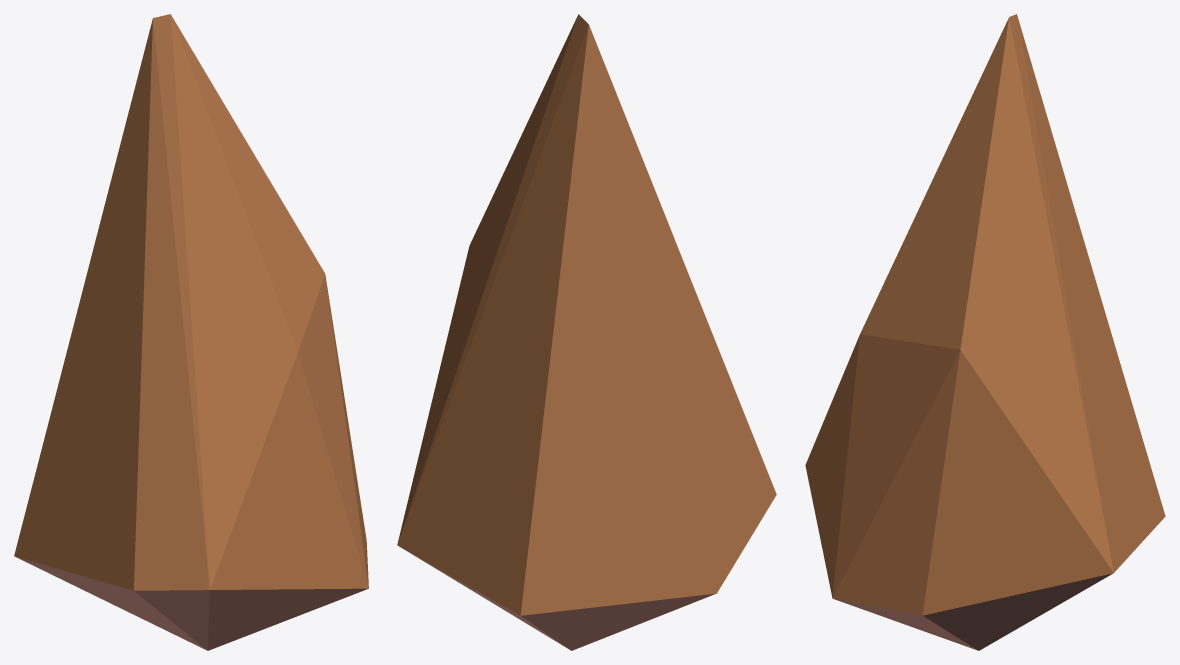
The model's file is PineTree_Autumn_2.lod4.glb.
3 views of the same model, side by side, from view 1: azimuth 30°, elevation 25°; view 2: azimuth 150°, elevation 25°; view 3: azimuth 270°, elevation 25° (orthographic). The views are drawn at different scales.
Parts seen in each view (by area): view 1: PineTree_Autumn_2; view 2: PineTree_Autumn_2; view 3: PineTree_Autumn_2.
Part boxes in pixels (x1,y1,x2,y2): PineTree_Autumn_2: (14, 14, 368, 650); PineTree_Autumn_2: (397, 14, 776, 650); PineTree_Autumn_2: (805, 14, 1165, 650).
Size of the model in its own units: 1.81 by 3.67 by 1.92.
